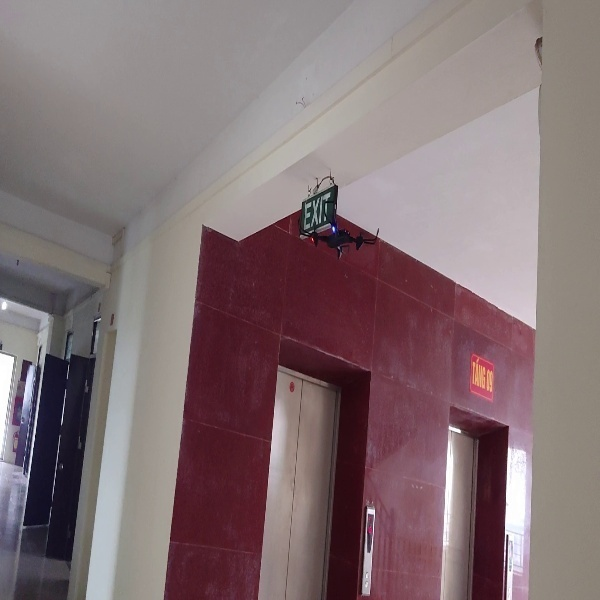drone: (295, 210, 385, 262)
